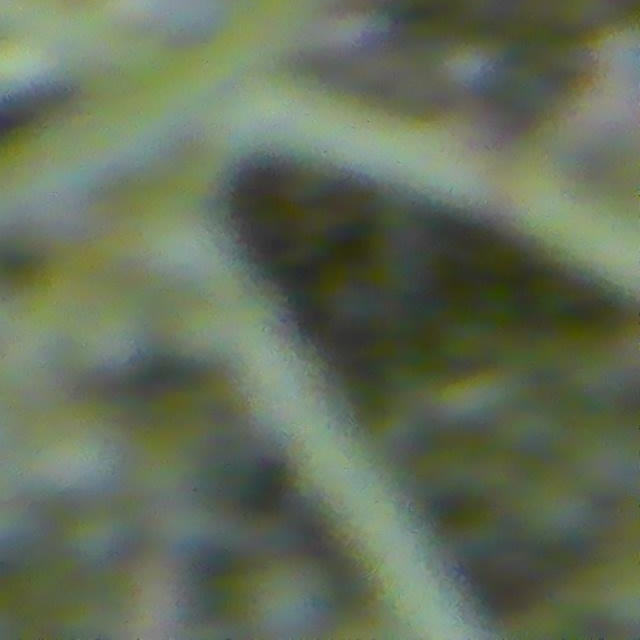SeaGrape: (217, 552, 334, 639), (30, 408, 129, 502), (571, 413, 640, 501)
